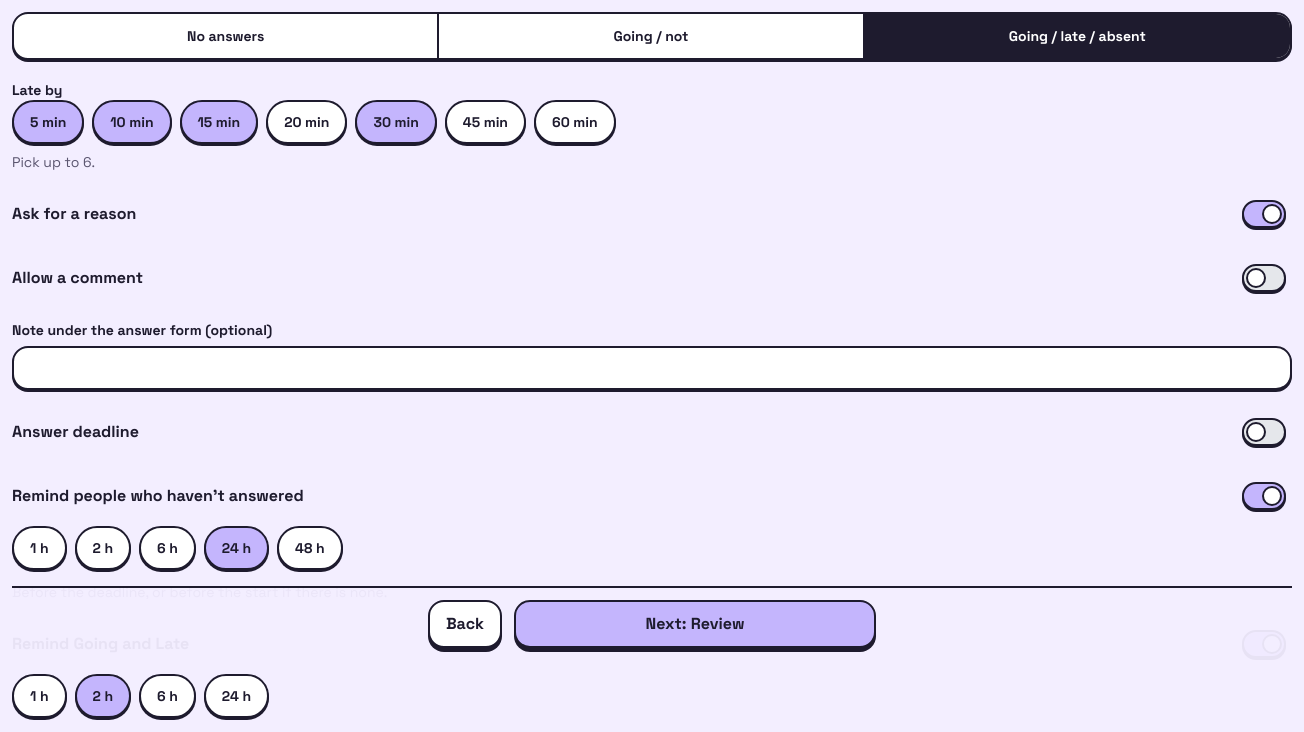
ResponsesStep › hides every setting for an announcement
Click the radio button labelled "No answers".
click(227, 36)  # box x1=14 y1=14 x2=439 y2=58
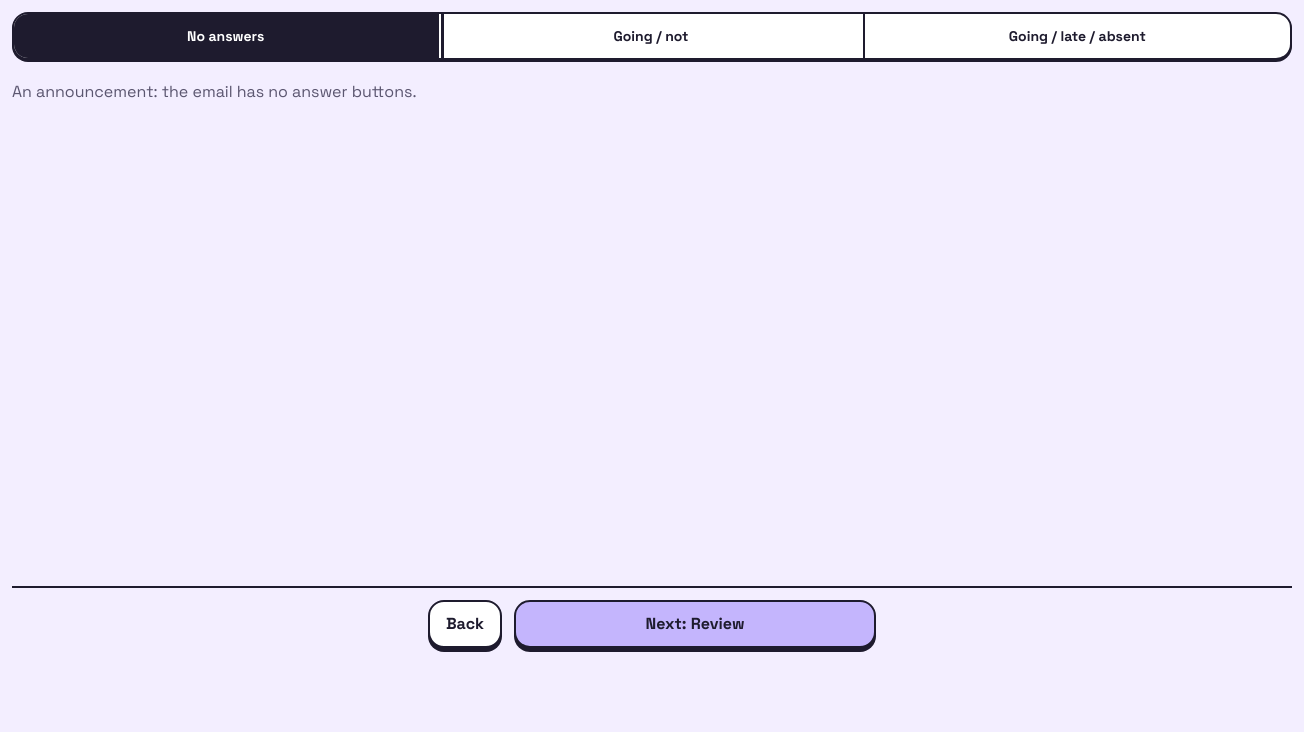
Result: the text "An announcement: the email has no answer buttons." is shown at x1=12 y1=81 x2=416 y2=102
Result: the text "Late by" is gone
Result: the label labelled "Allow a comment" is gone
